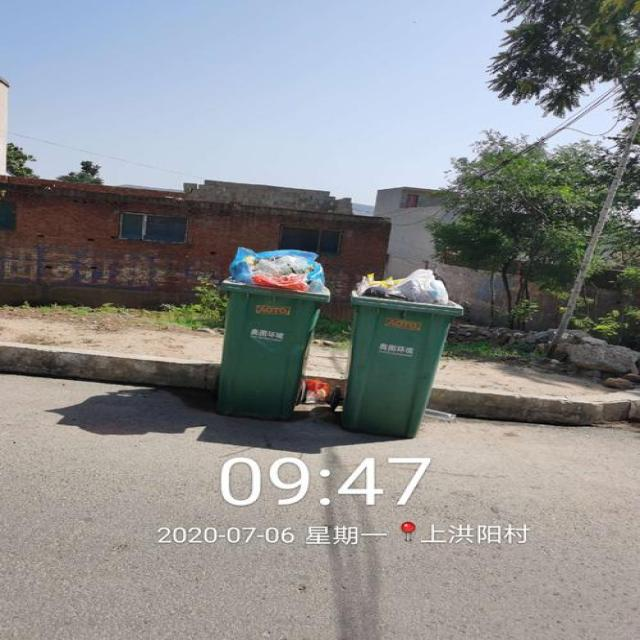garbage: (304, 378, 326, 402)
overflow: (339, 268, 462, 438), (215, 245, 330, 420)
